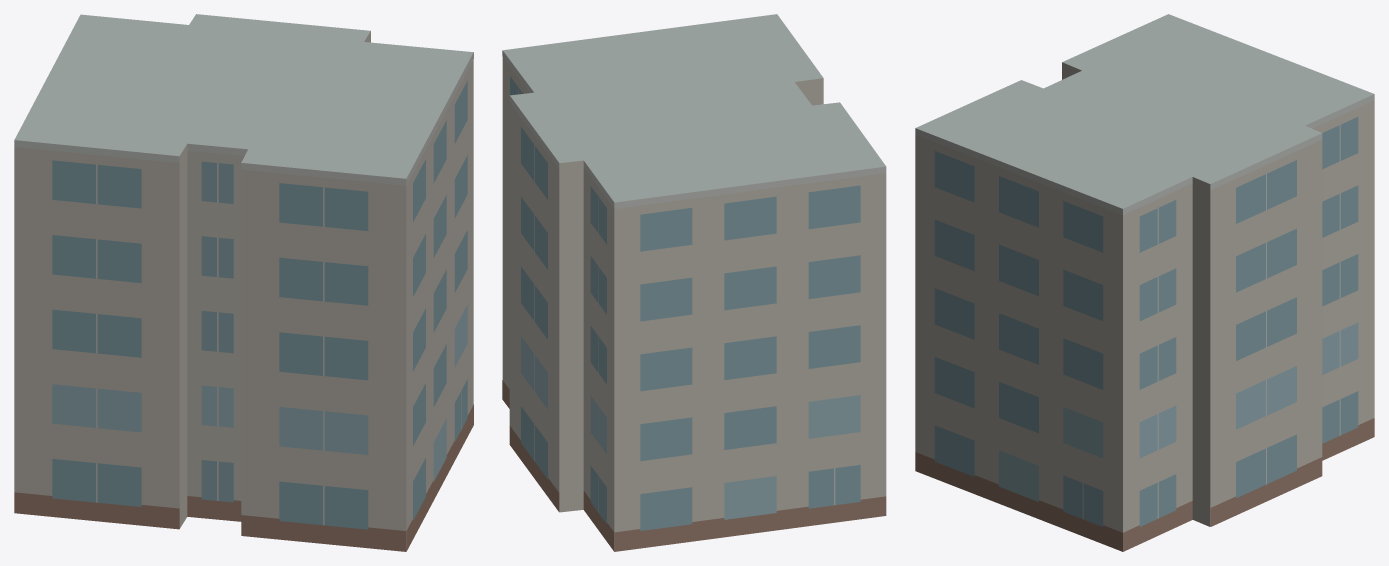
The model's file is survey-upis-32883418.glb.
3 views of the same model, side by side, from view 1: azimuth 30°, elevation 25°; view 2: azimuth 150°, elevation 25°; view 3: azimuth 270°, elevation 25° (orthographic). The views are drawn at different scales.
Parts seen in each view (by area): view 1: survey-upis-32883418.tmp; view 2: survey-upis-32883418.tmp; view 3: survey-upis-32883418.tmp.
Part boxes in pixels (x1,y1,x2,y2): survey-upis-32883418.tmp: [14, 14, 473, 551]; survey-upis-32883418.tmp: [502, 14, 886, 551]; survey-upis-32883418.tmp: [915, 14, 1374, 551].
Size of the model in its own units: 16.1 by 13.2 by 16.03.
